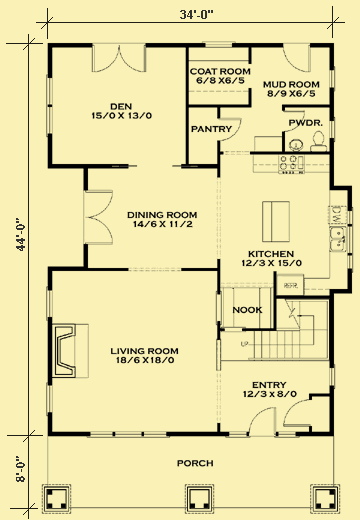door: (88, 42, 149, 78), (79, 186, 116, 244), (279, 42, 316, 75), (248, 405, 278, 439), (218, 115, 244, 144), (284, 107, 306, 134)
kitchen bar: (257, 199, 294, 245)
large sink: (309, 127, 326, 152)
small sink: (284, 135, 310, 154)
stairs: (220, 299, 333, 367)
twin sink: (327, 225, 345, 253)
windows: (43, 71, 58, 136), (84, 429, 172, 440), (345, 207, 356, 271), (200, 39, 238, 54), (43, 380, 55, 419), (44, 284, 55, 321)
